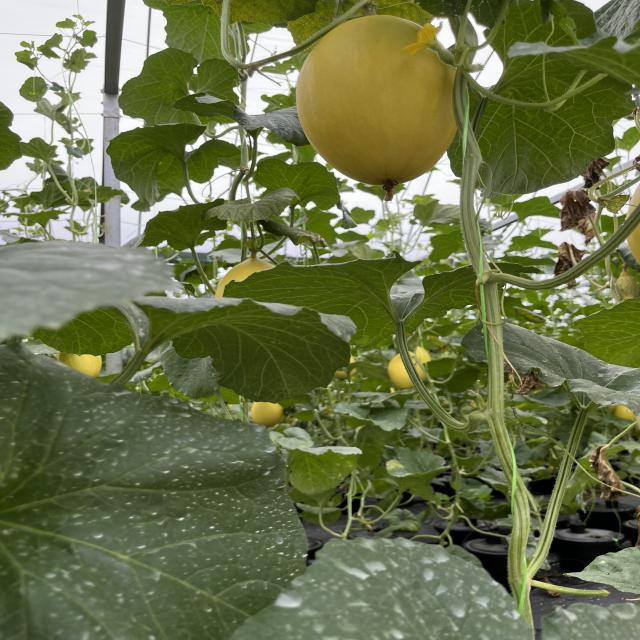downy mildew: (0, 340, 313, 640)
healthy: (95, 122, 242, 207)
